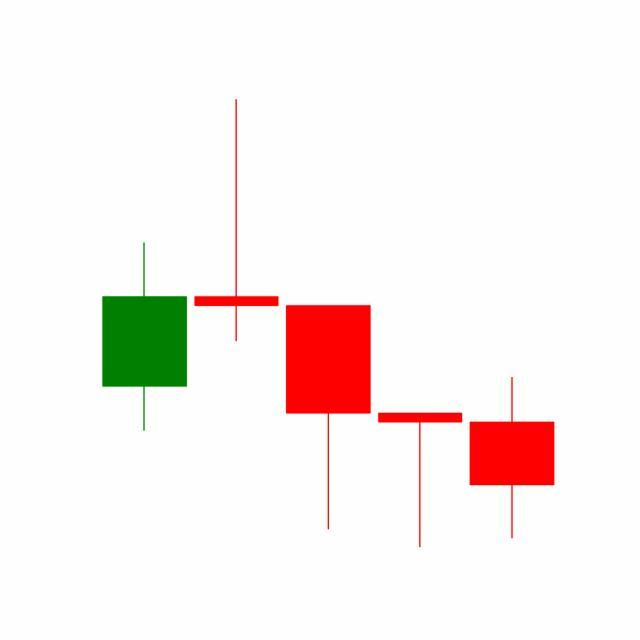Dragonfly Doji: (374, 412, 468, 550)
